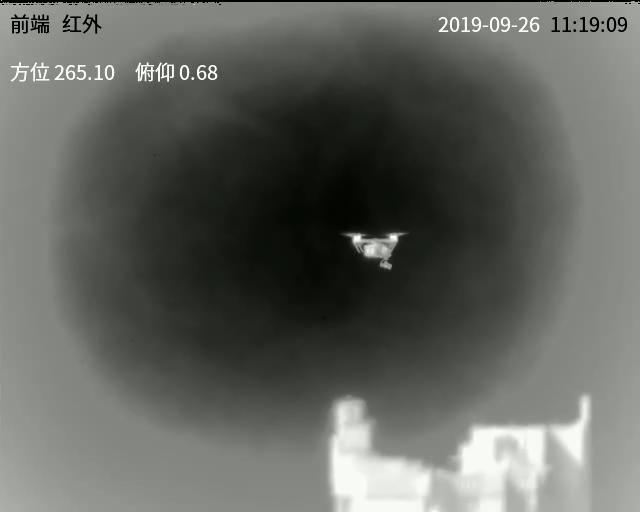uav: (342, 222, 410, 273)
